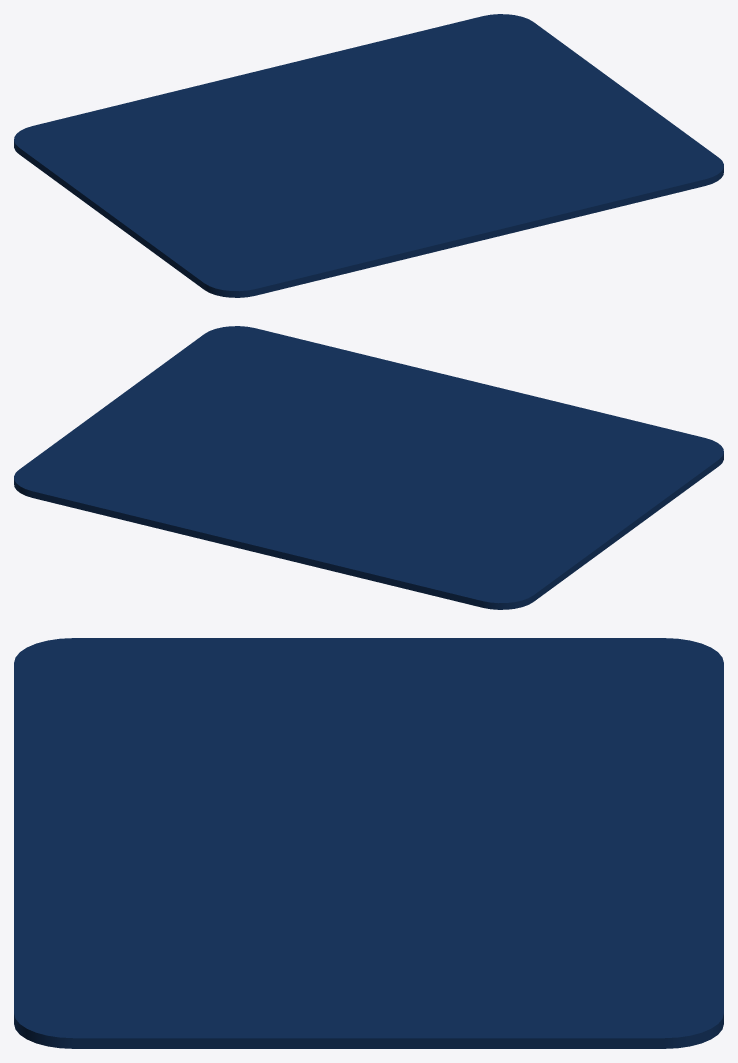
File: MousePad.glb
3 views of the same model, one above another, from view 1: azimuth 30°, elevation 25°; view 2: azimuth 150°, elevation 25°; view 3: azimuth 270°, elevation 25° (orthographic). The views are drawn at different scales.
Visible parts, largest first — view 1: MousePad; view 2: MousePad; view 3: MousePad.
Part boxes in pixels (x1=…): MousePad: x1=14, y1=14, x2=723, y2=297; MousePad: x1=14, y1=326, x2=723, y2=609; MousePad: x1=14, y1=638, x2=723, y2=1048.
Bounding box in the file's own units: 16 × 0.2 × 12.
